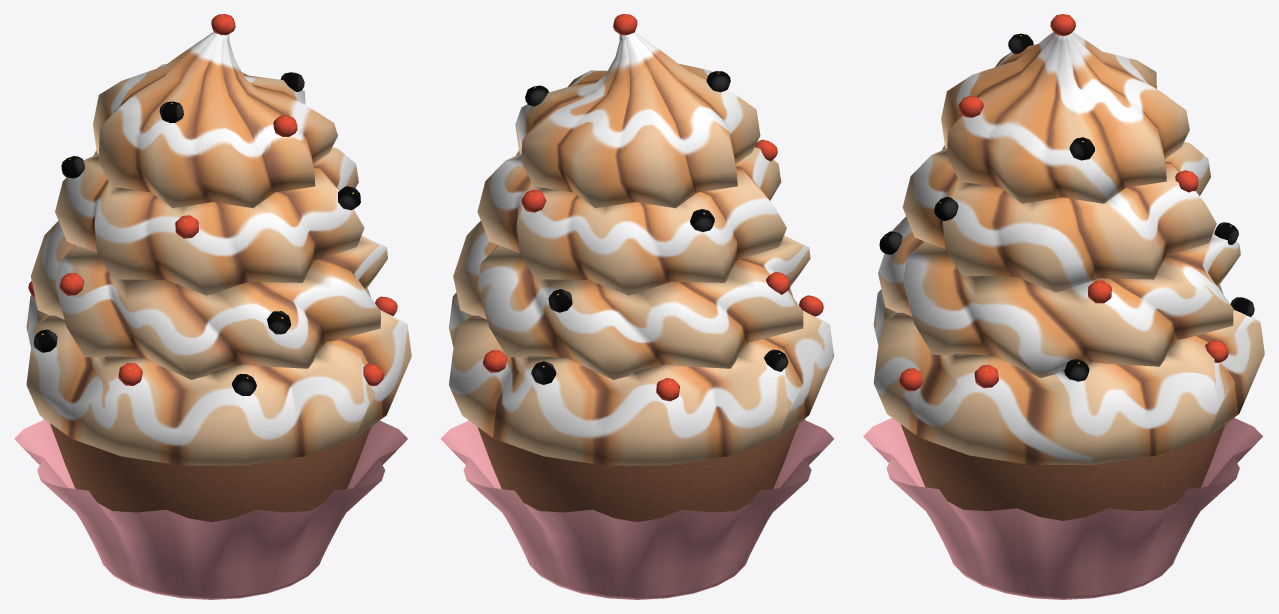
The model's file is cupcake_cream_2.fbx.
3 views of the same model, side by side, from view 1: azimuth 30°, elevation 25°; view 2: azimuth 150°, elevation 25°; view 3: azimuth 270°, elevation 25° (orthographic).
Visible parts, largest first — view 1: cupcake_sufle_cream_cup; view 2: cupcake_sufle_cream_cup; view 3: cupcake_sufle_cream_cup.
Part boxes in pixels (x1=…): cupcake_sufle_cream_cup: x1=14, y1=14, x2=411, y2=599; cupcake_sufle_cream_cup: x1=441, y1=14, x2=834, y2=599; cupcake_sufle_cream_cup: x1=863, y1=14, x2=1264, y2=599.
Size of the model in its own units: 11.05 by 16.47 by 11.07.
